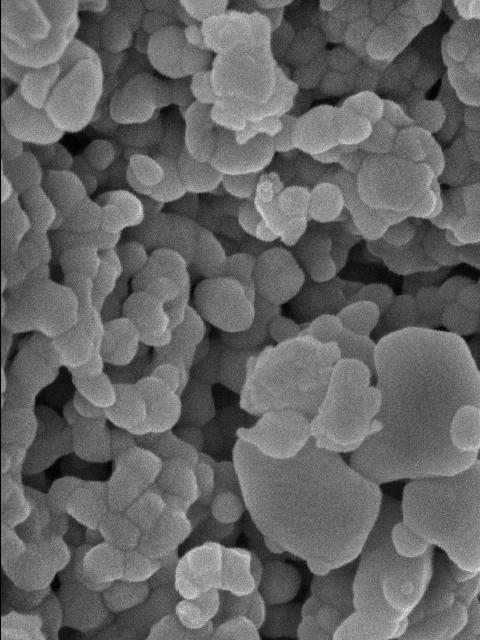nano: (449, 399, 480, 453)
